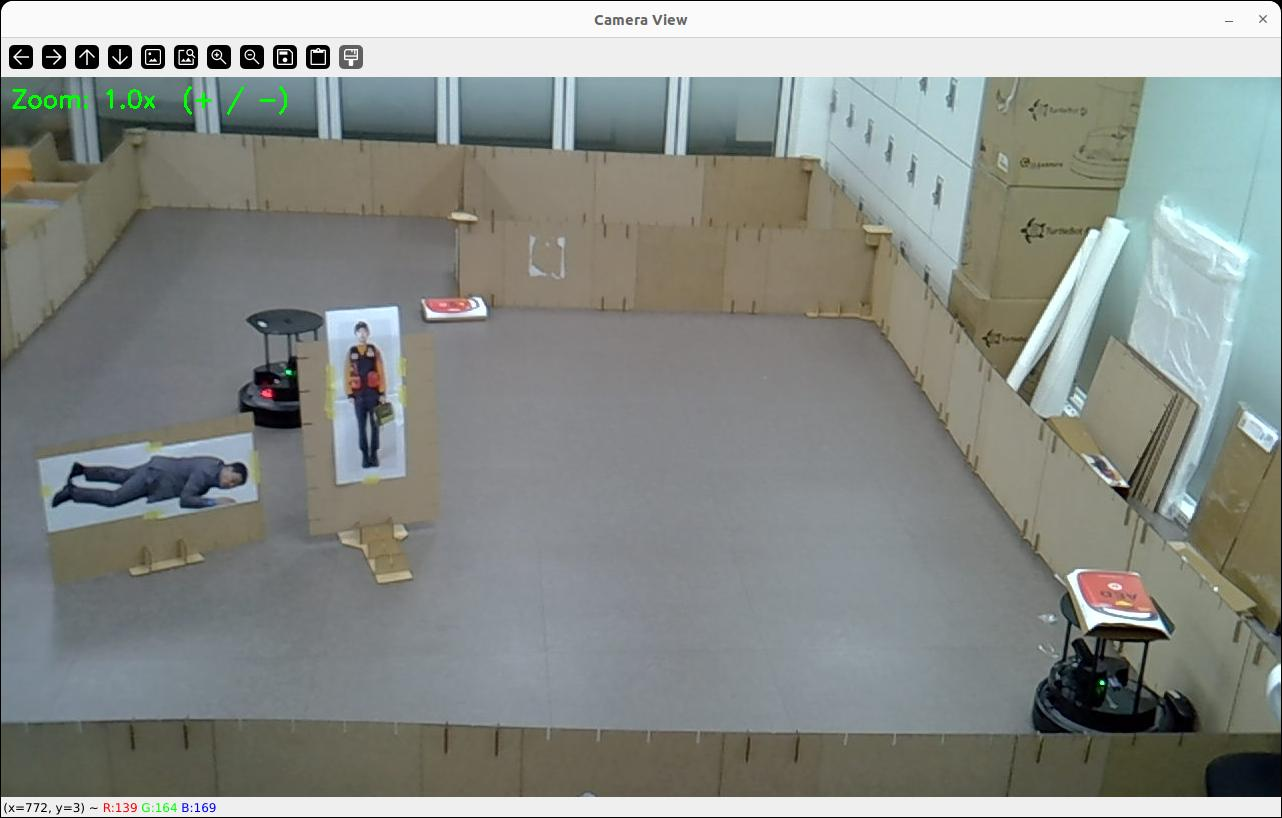Patient: (51, 456, 246, 507)
Responder: (345, 322, 386, 467)
Robot: (238, 308, 321, 426)
